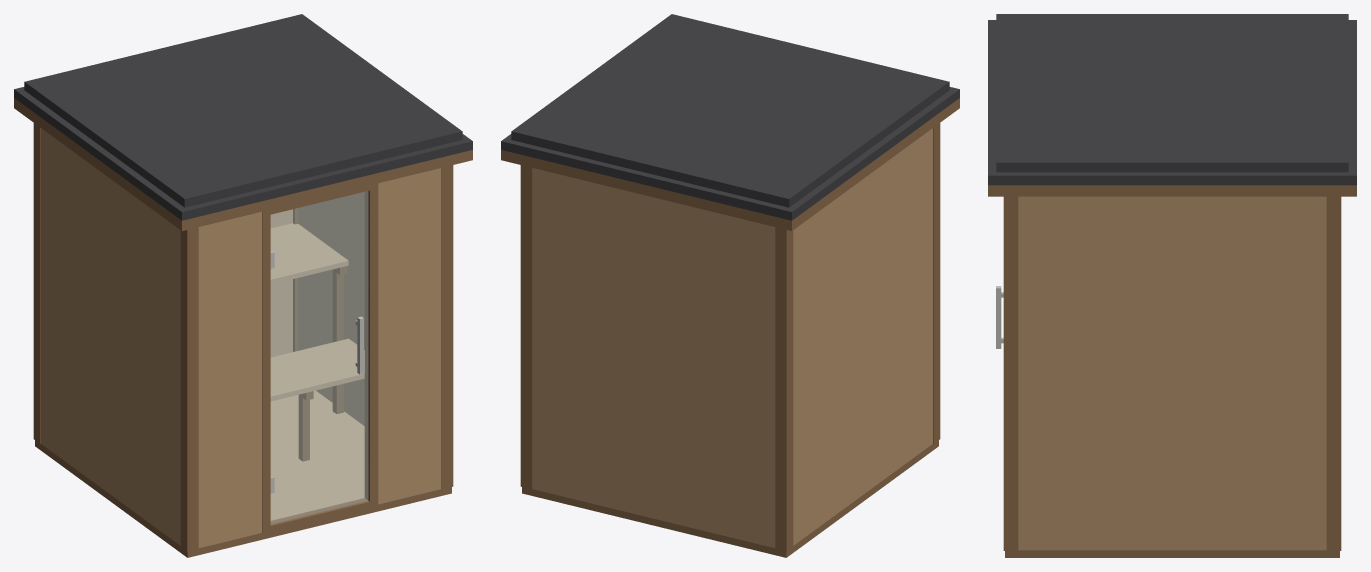
Rendered from espoo-compact-low.glb.
3 renders of one model, left to right at view 1: azimuth 30°, elevation 25°; view 2: azimuth 150°, elevation 25°; view 3: azimuth 270°, elevation 25°, orthographic. The views are drawn at different scales.
Parts seen in each view (by area): view 1: roof, wall_left, wall_front, door, frame, floor, wall_right, bench_lower, bench_upper, wall_back; view 2: wall_back, roof, wall_left, frame, floor; view 3: wall_right, roof, frame, floor.
Boxes of the visible parts, x1,y1,x2,y2 form: roof: (14,14,472,230); wall_left: (41,128,180,545); wall_front: (198,168,441,548); door: (262,183,378,533); frame: (33,123,453,551); floor: (35,390,451,557); wall_right: (298,192,364,425); bench_lower: (270,338,364,461); bench_upper: (270,223,348,413); wall_back: (270,209,292,357); wall_back: (532,168,775,548); roof: (501,14,959,230); wall_left: (793,128,932,545); frame: (520,123,940,551); floor: (522,440,938,557); wall_right: (1018,196,1326,550); roof: (988,14,1356,196); frame: (1003,196,1341,550); floor: (1005,550,1339,557).
Size of the model in its own units: 1.76 by 2.1 by 1.76.
